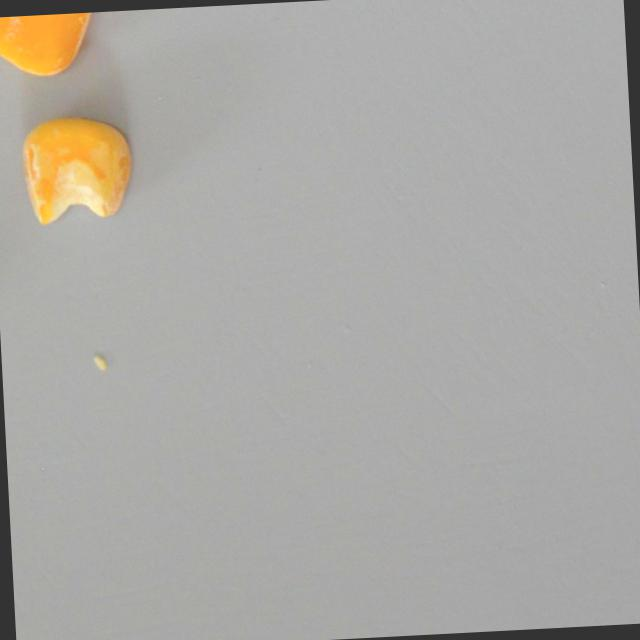pelicula: (19, 113, 133, 223), (0, 11, 97, 76)
